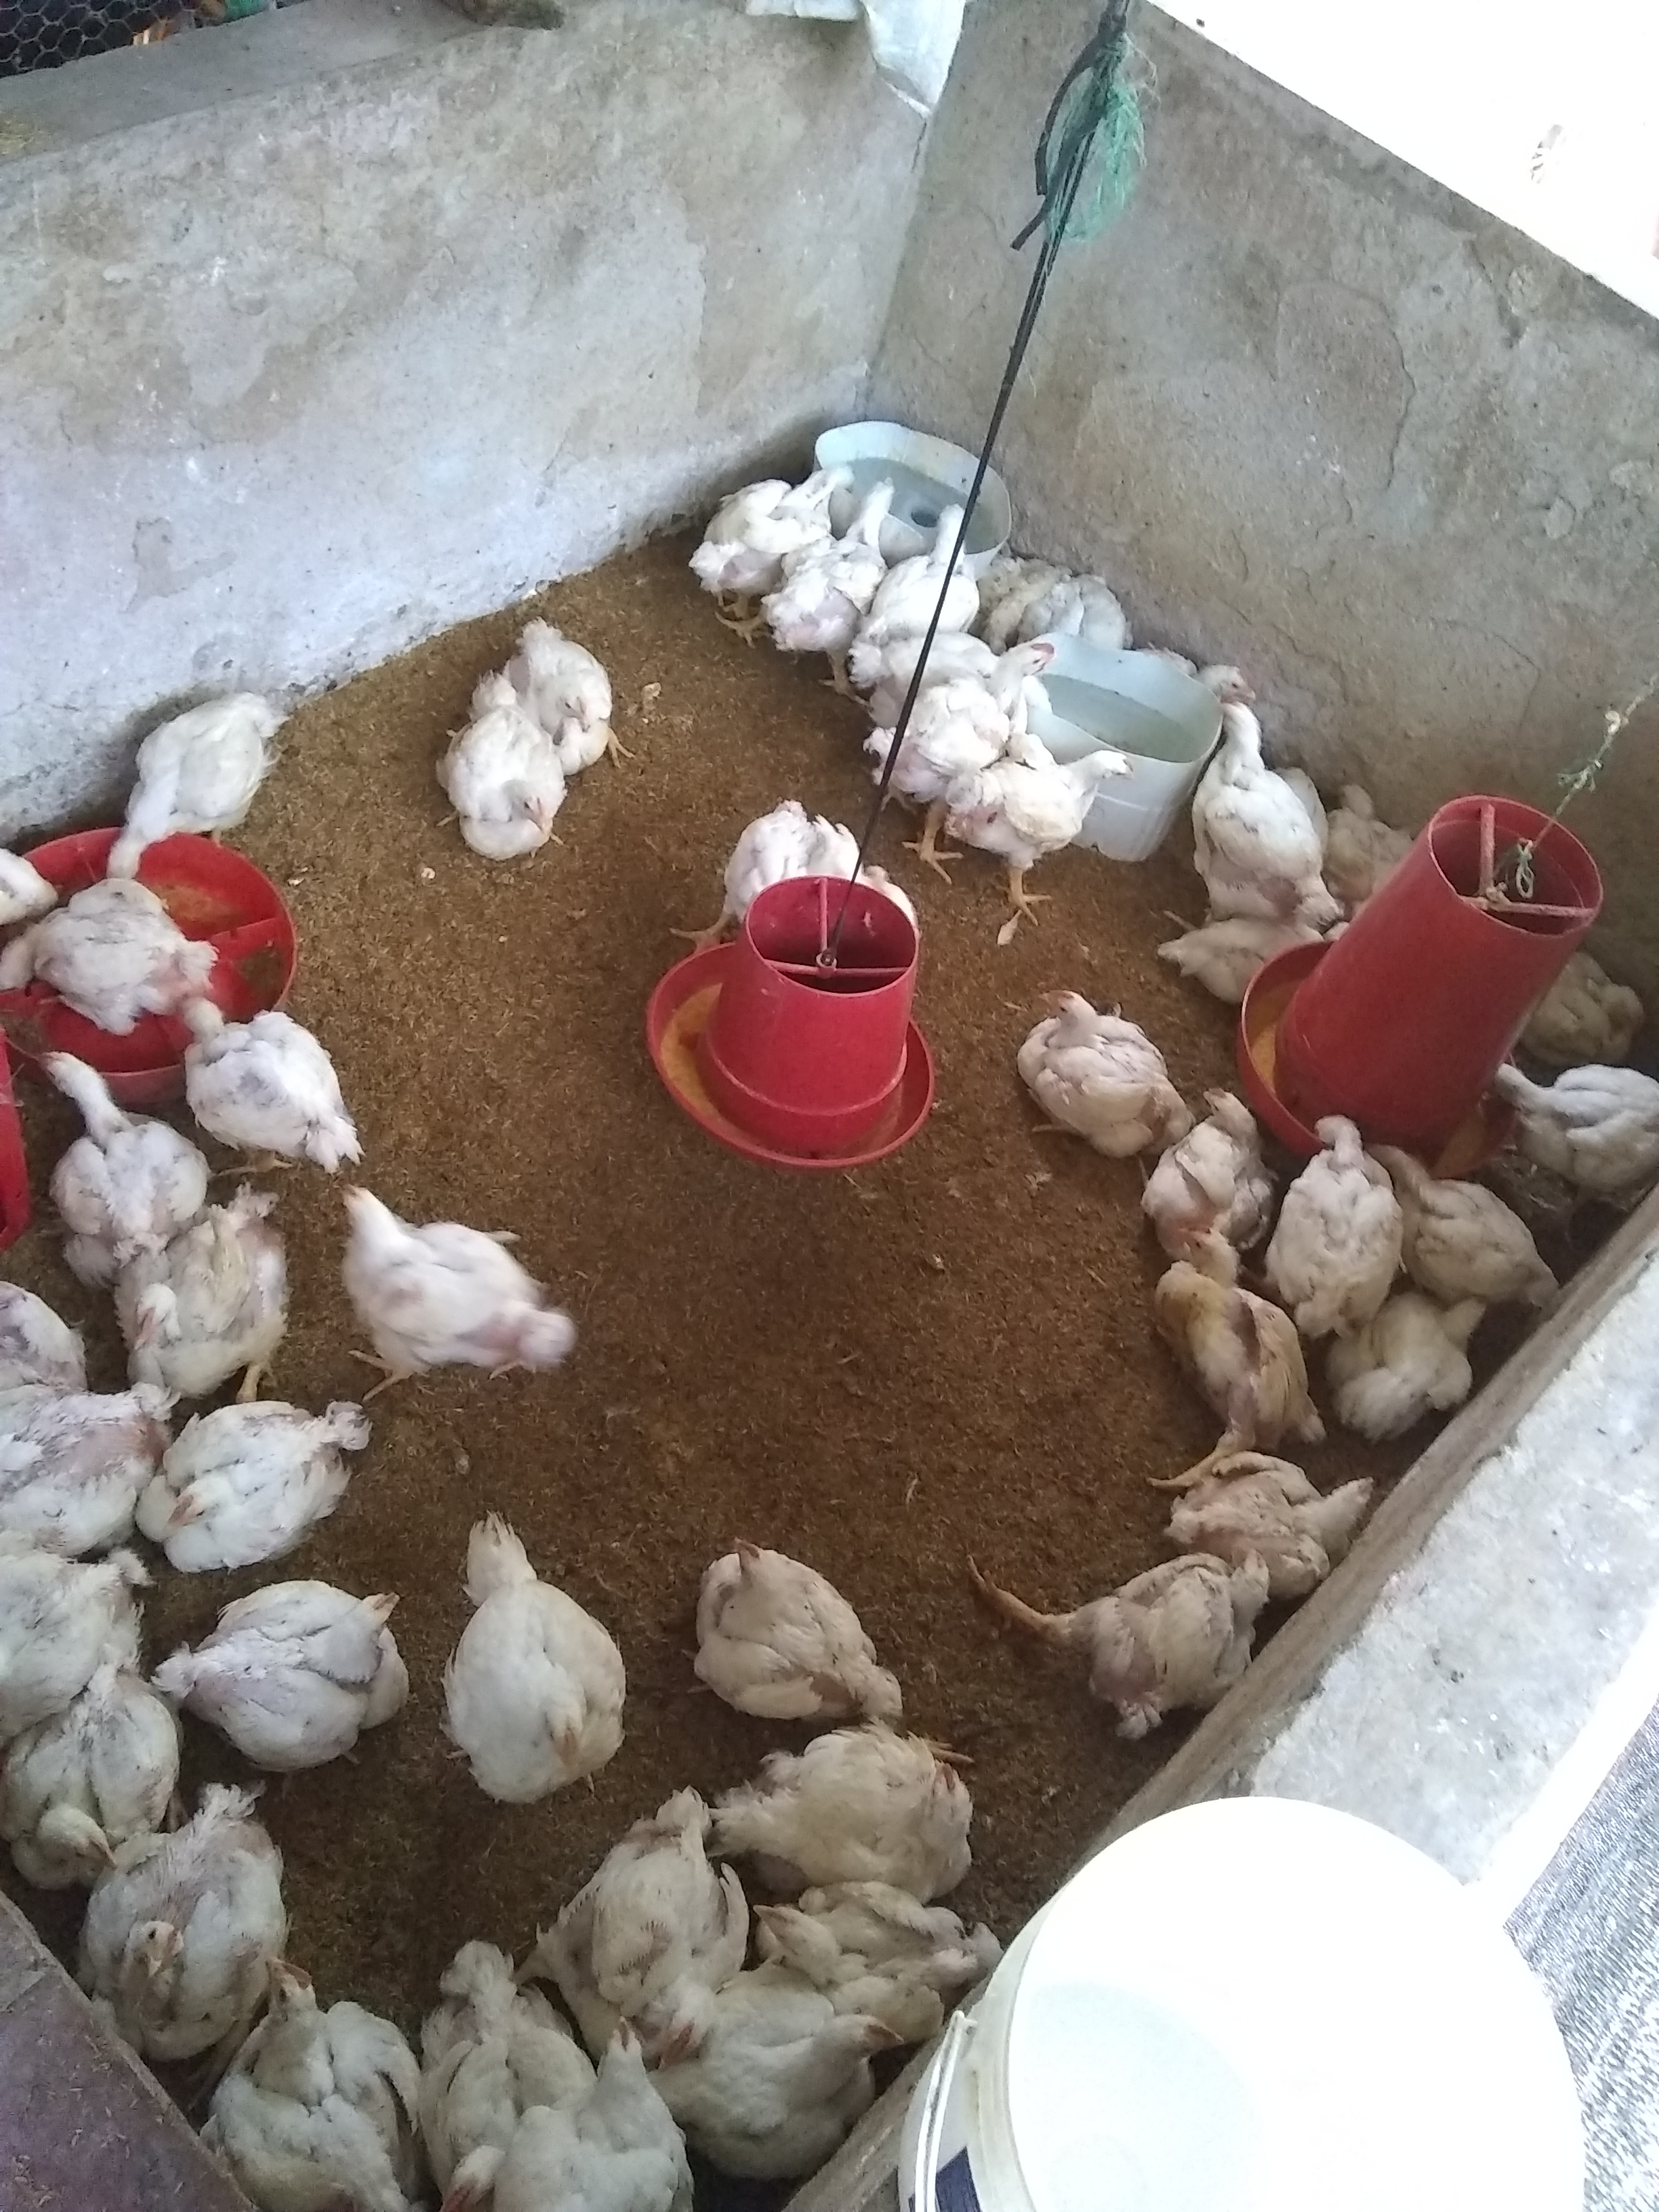Pollos: (307, 1176, 622, 1404), (73, 1799, 293, 2067), (730, 1691, 1002, 1898), (211, 1952, 423, 2209), (451, 1503, 624, 1806), (399, 1916, 573, 2212), (681, 773, 931, 977), (1037, 1543, 1277, 1749), (547, 1764, 737, 2017), (748, 1848, 1035, 2013), (694, 1963, 910, 2182), (64, 686, 314, 873), (146, 1379, 361, 1587), (166, 1583, 413, 1756), (2, 1672, 213, 1872), (1159, 1423, 1373, 1609), (505, 2017, 709, 2212), (1375, 1106, 1556, 1324), (37, 1019, 204, 1254), (1471, 1026, 1659, 1233), (1155, 1205, 1307, 1460), (695, 1543, 901, 1726), (1265, 1087, 1403, 1350), (5, 888, 221, 1054), (106, 1188, 282, 1390), (162, 1001, 362, 1174), (885, 636, 1065, 826), (0, 1393, 197, 1566), (397, 674, 568, 873), (1328, 1284, 1518, 1454), (964, 733, 1147, 904), (1006, 970, 1178, 1143), (697, 430, 870, 601), (1201, 693, 1328, 923), (1150, 885, 1345, 1026), (779, 465, 906, 674), (491, 604, 660, 756), (1147, 1082, 1276, 1256), (1521, 904, 1650, 1078), (0, 1552, 127, 1721), (880, 502, 997, 665), (1326, 765, 1436, 911), (2, 1282, 94, 1395), (1176, 629, 1251, 705)
